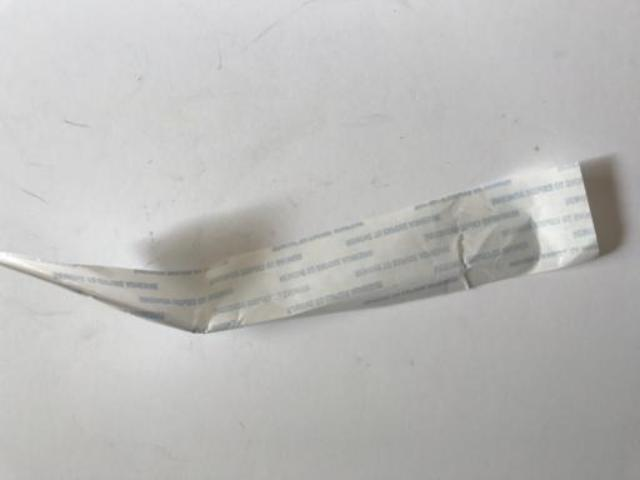cardboard paper: (0, 161, 598, 330)
